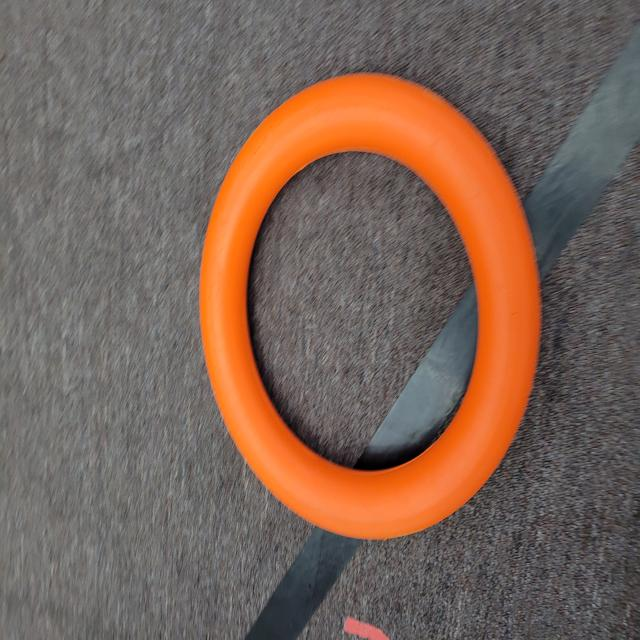note: (195, 59, 561, 548)
